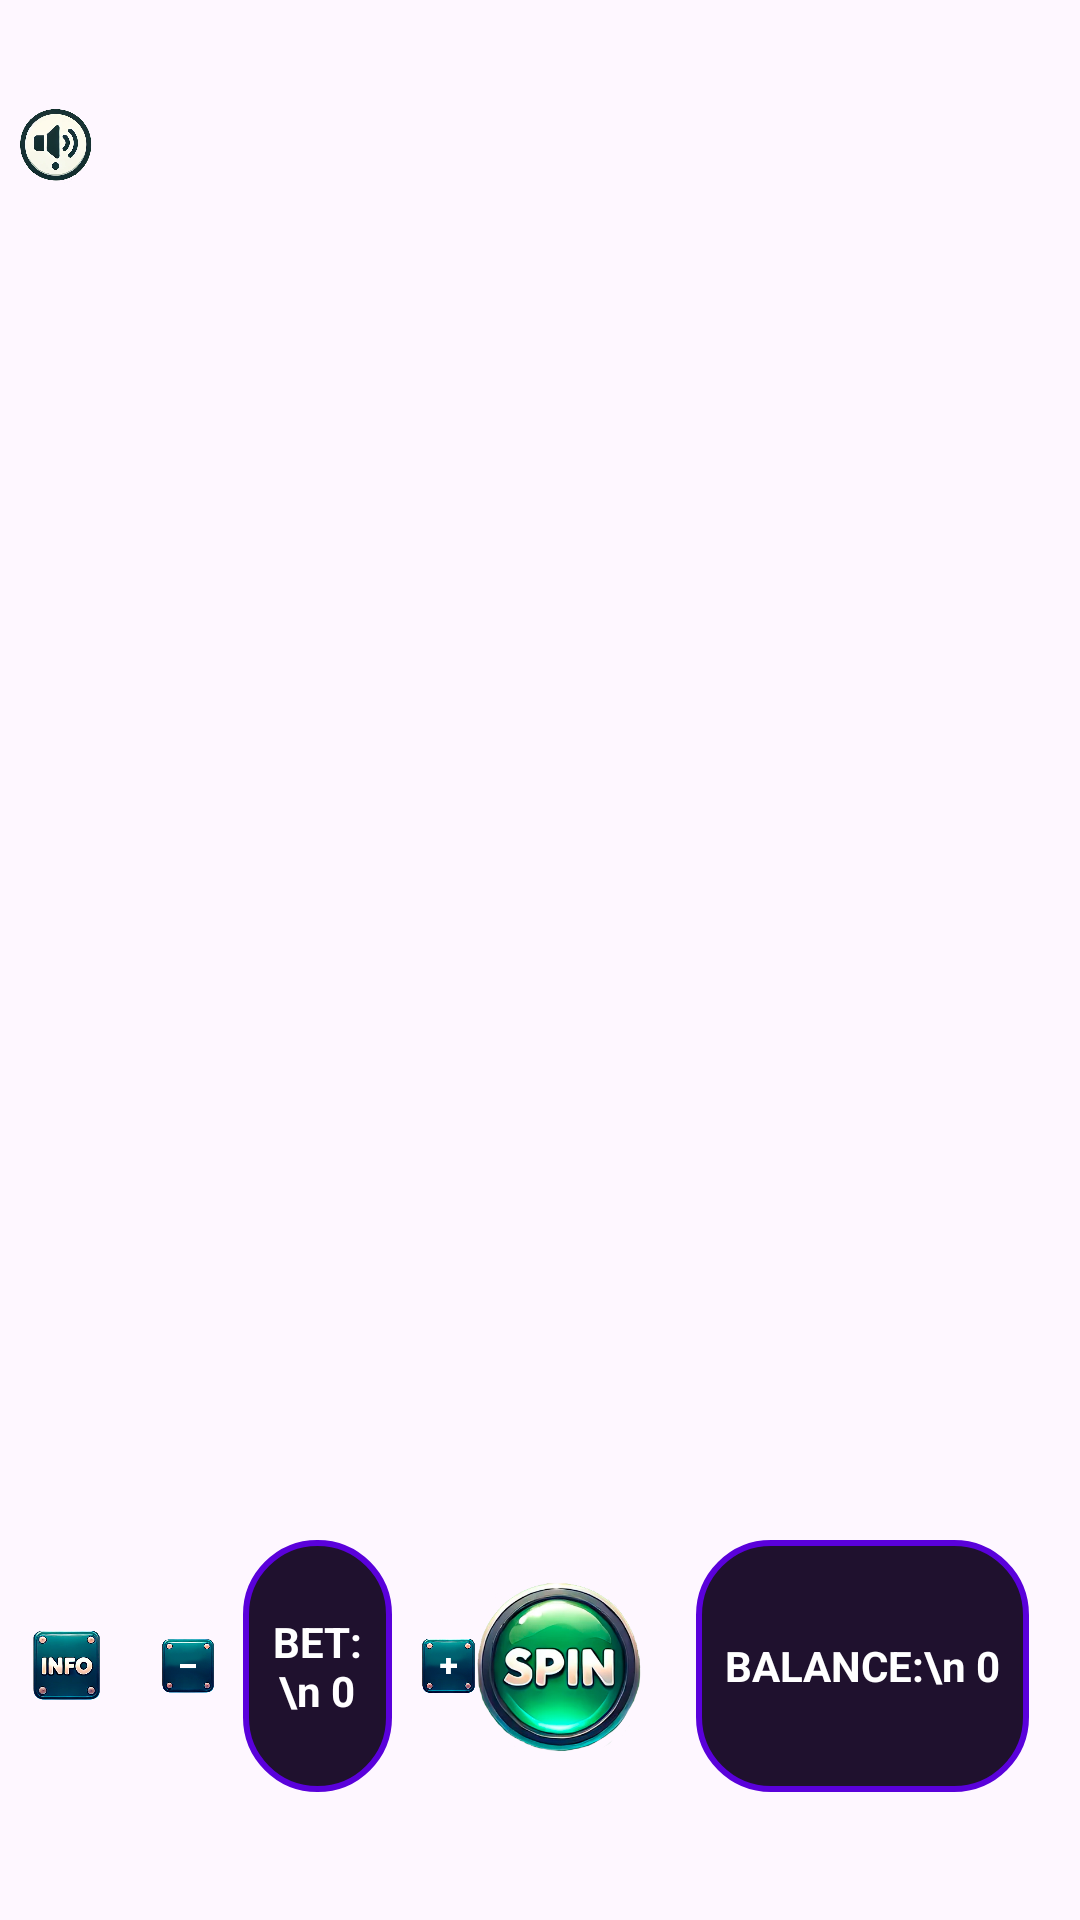

Icons on this 1080px×1920px Android screen, each with the point to tap as (x,y):
minus: (188,1666)
plus: (448,1666)
sound on: (55,145)
